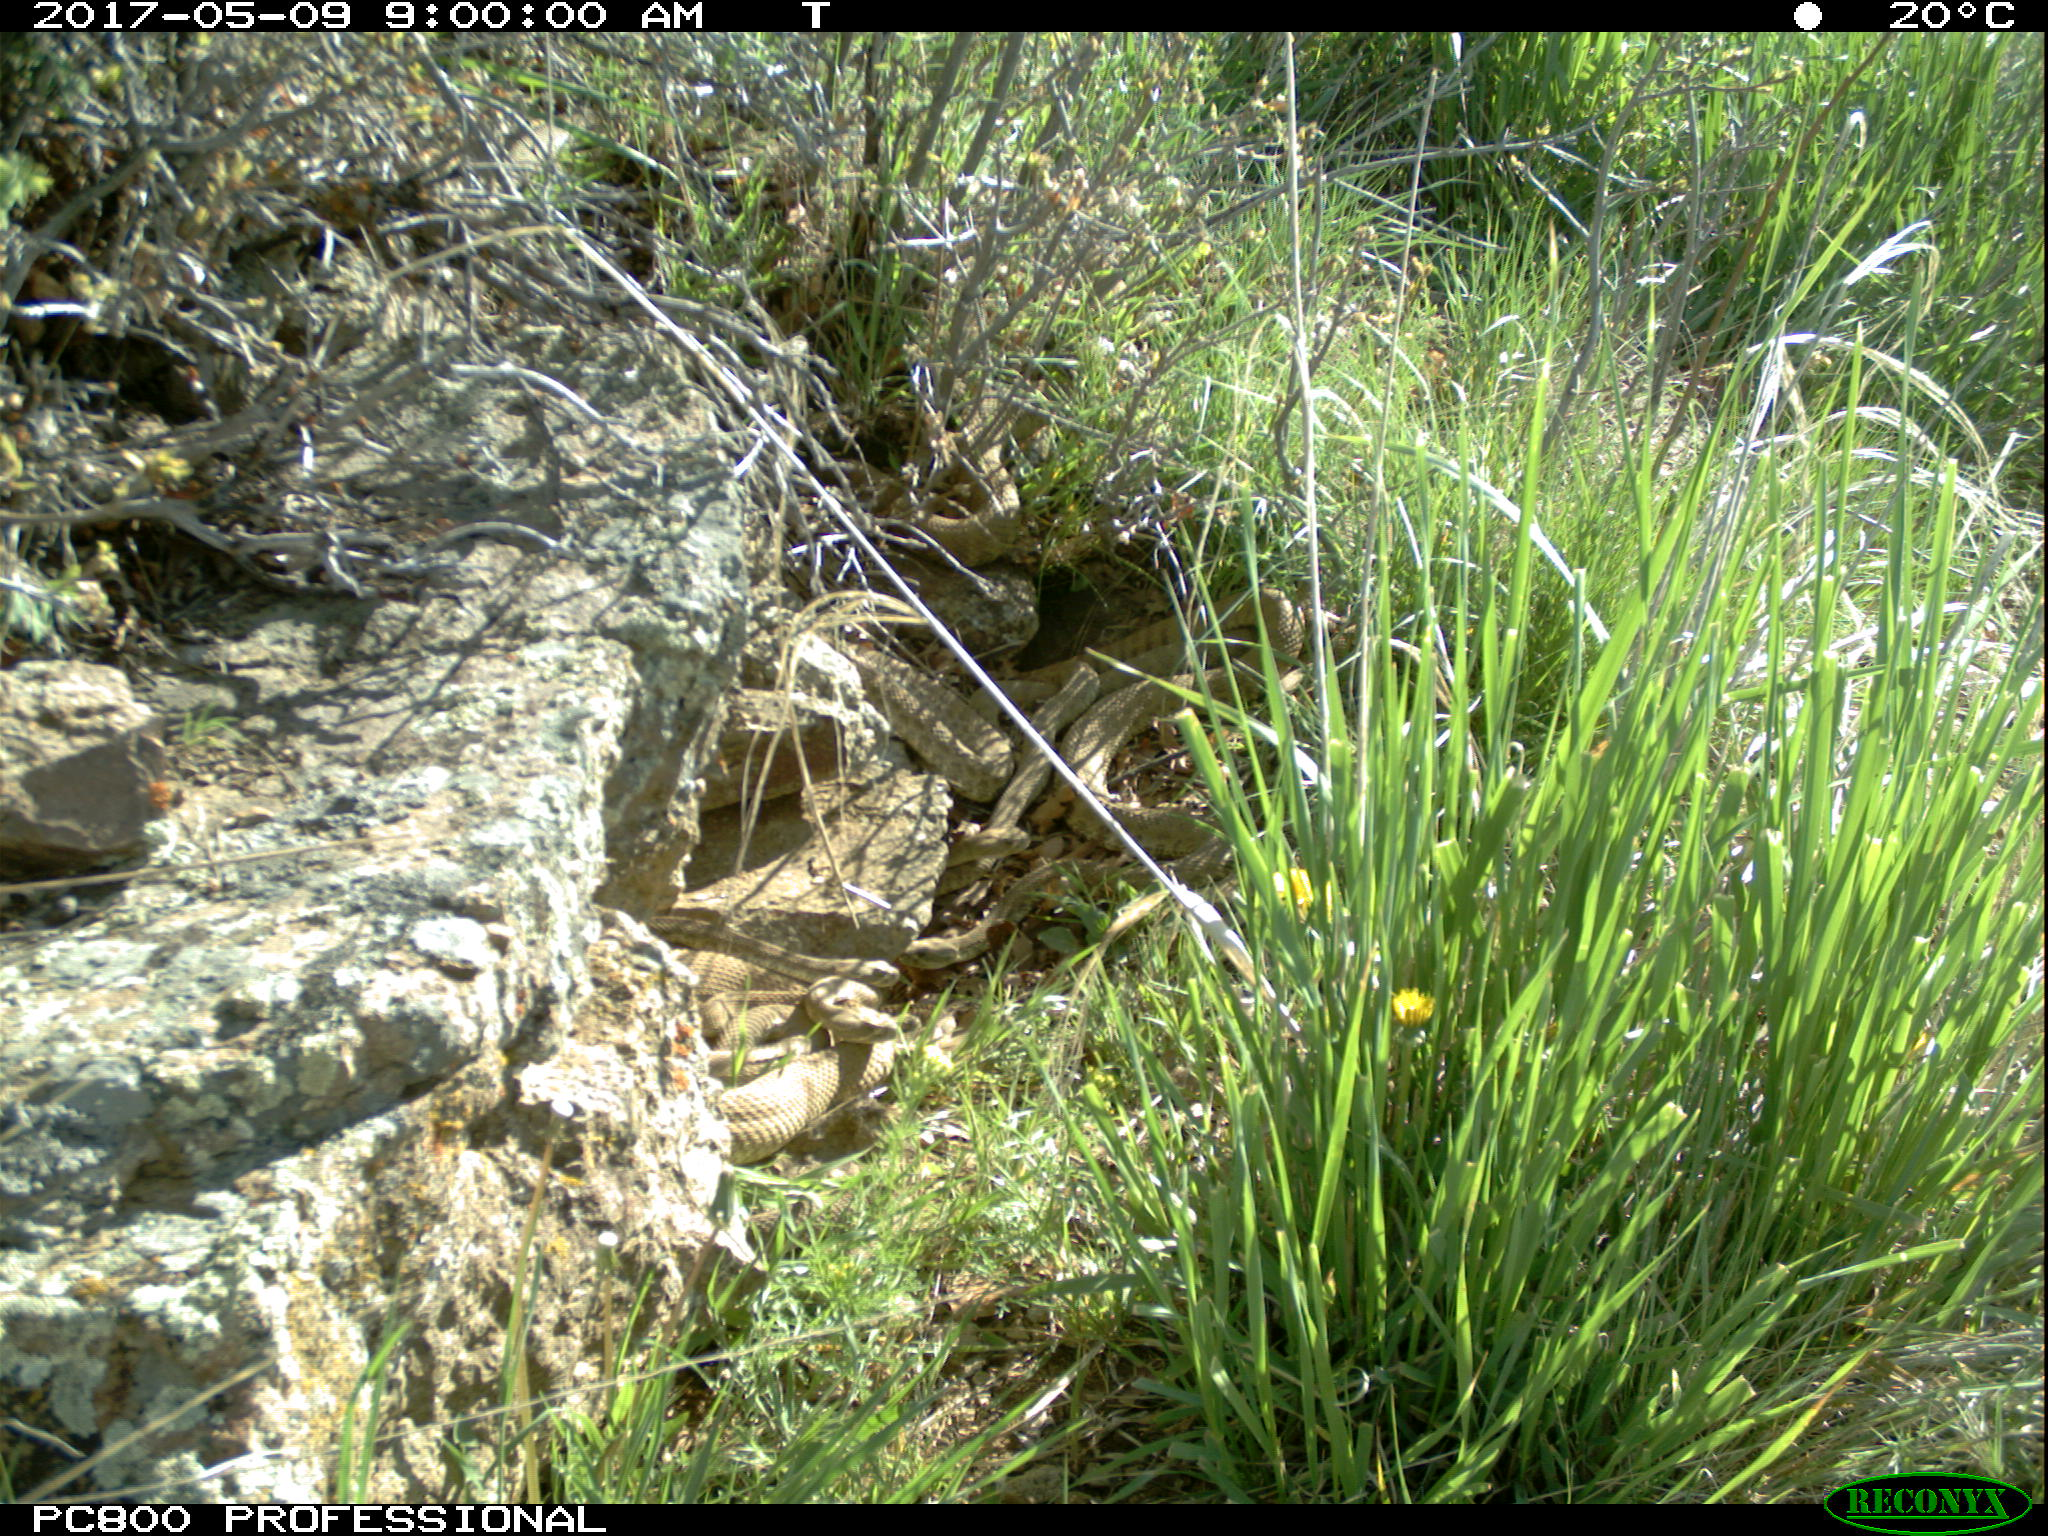snake: (661, 942, 934, 1163), (1026, 644, 1226, 862), (1018, 587, 1319, 691), (845, 641, 1027, 803), (890, 458, 1034, 565), (945, 807, 1048, 920)
